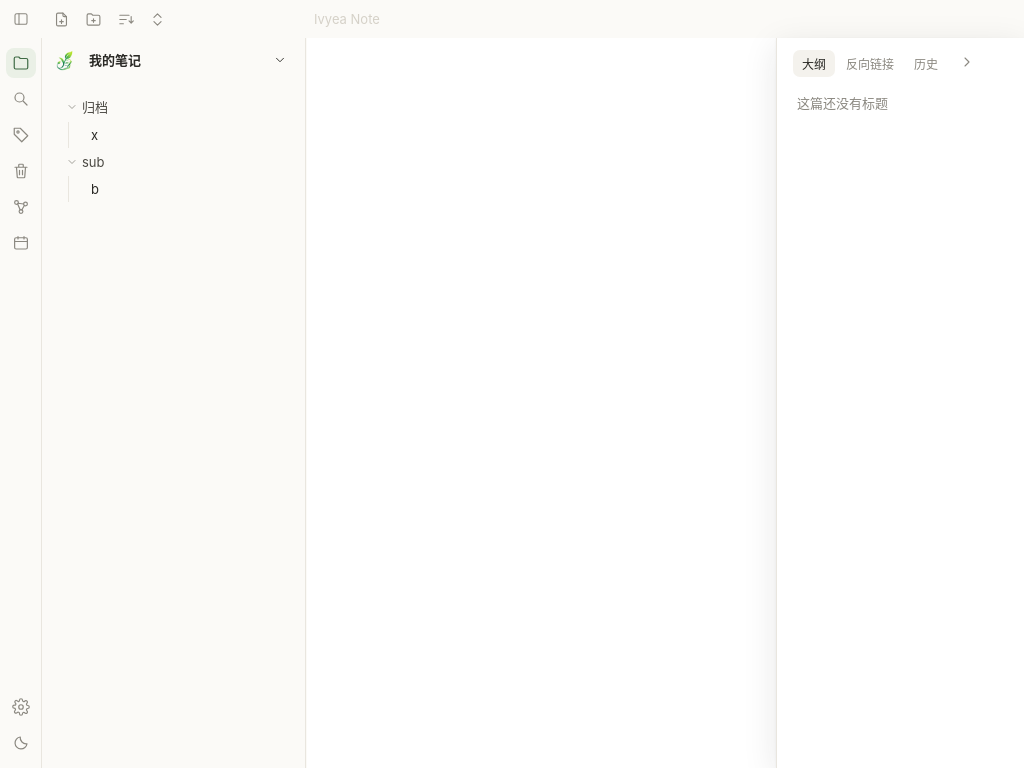
Test: 右键上下文菜单（E3） › 重命名撞上同名文件夹：当场拦下并说清原因，一个文件都不动
The width and height of the screenshot is (1024, 768).
Right-click the element with class "ft-dir" showing "sub" at (85, 162), box [66,154,104,170]
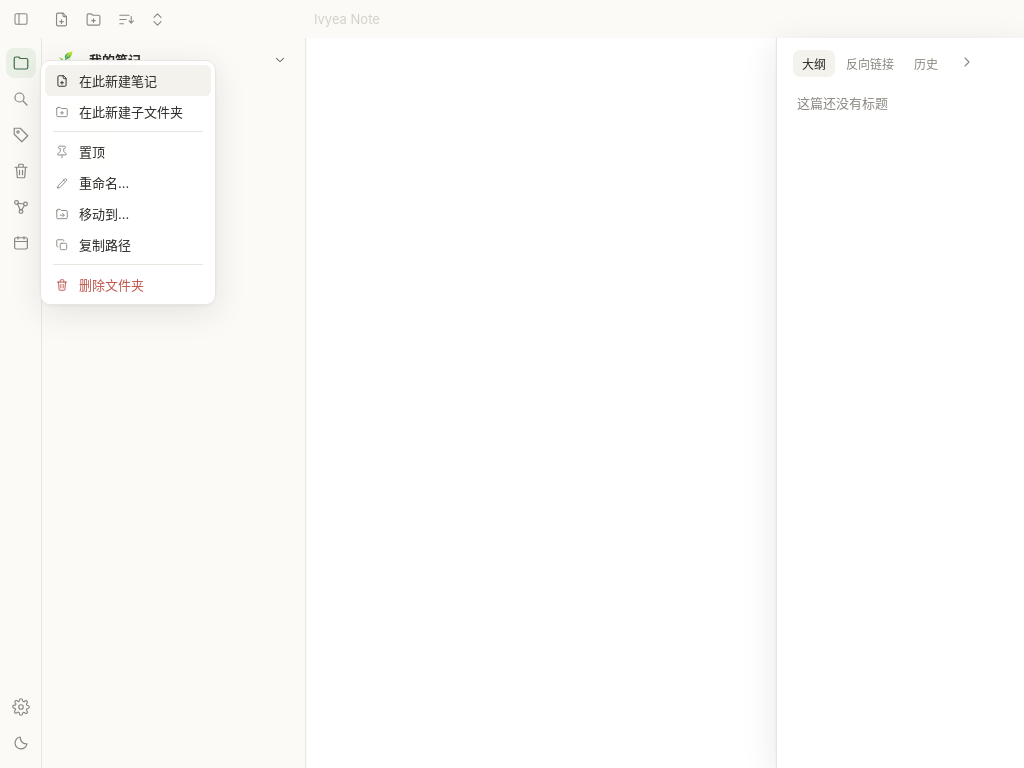
Now the menu is shown, box [40,60,216,305]
Click the menu item "重命名…" at (128, 182), box [45,167,211,198]
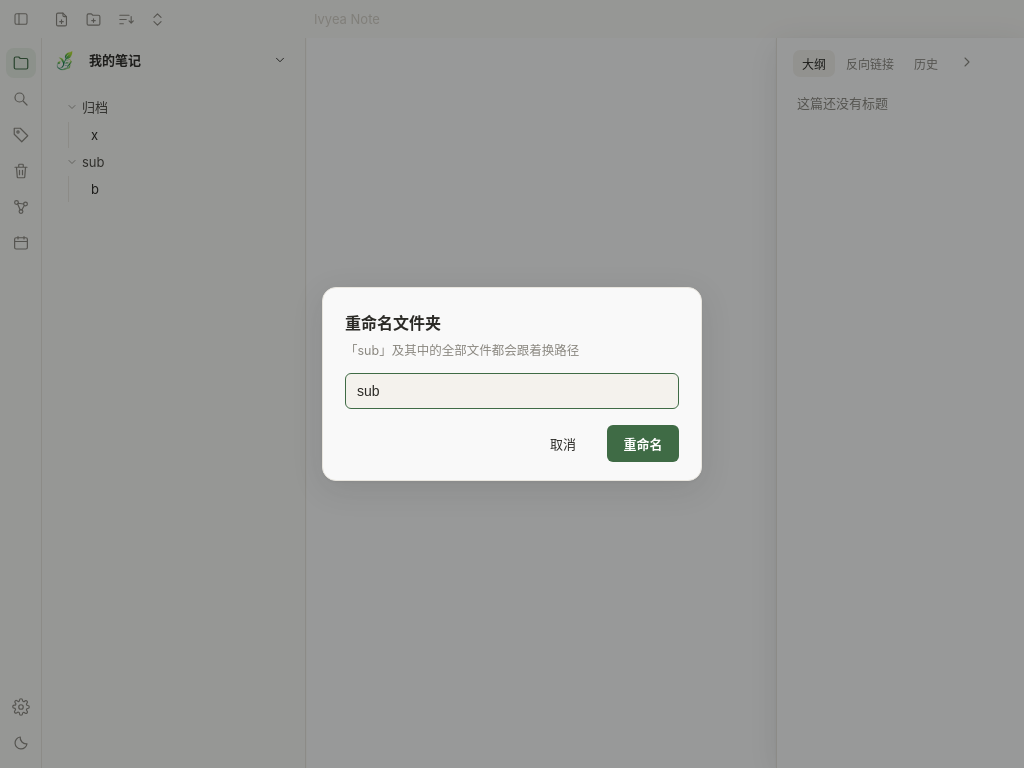
Now the field with class "dlg-input" is shown
Replace the text in the field with class "dlg-input" with "归档" at (512, 391), box [345,373,679,409]
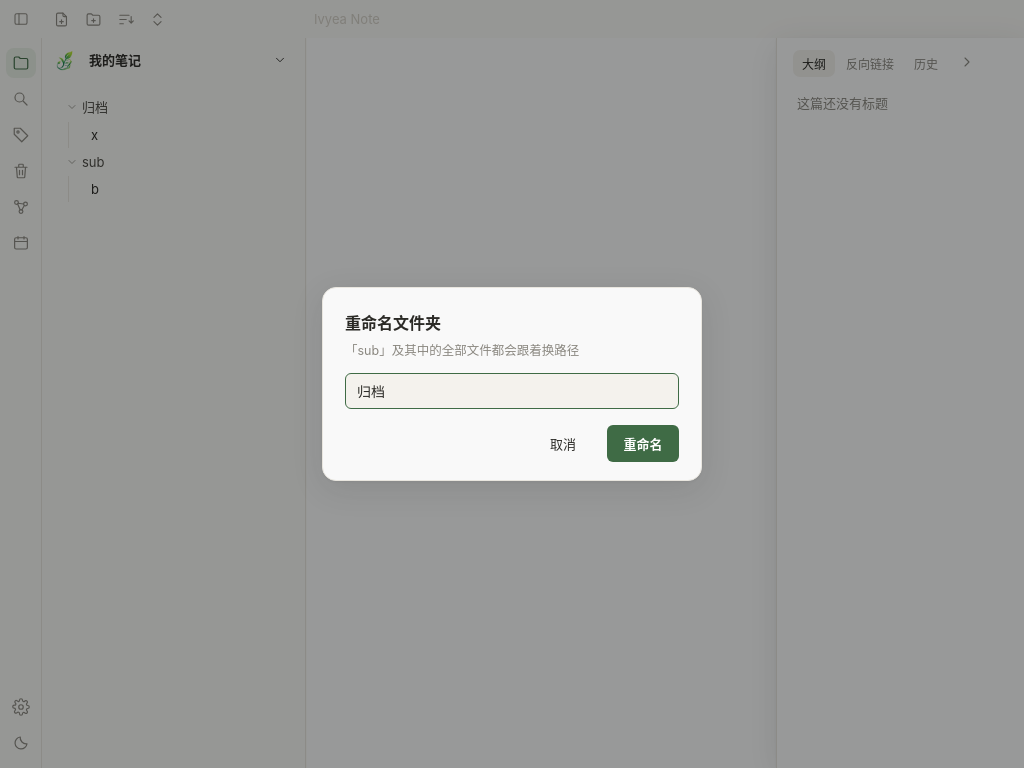
Click the button "重命名" at (643, 444), box [607,425,679,462]
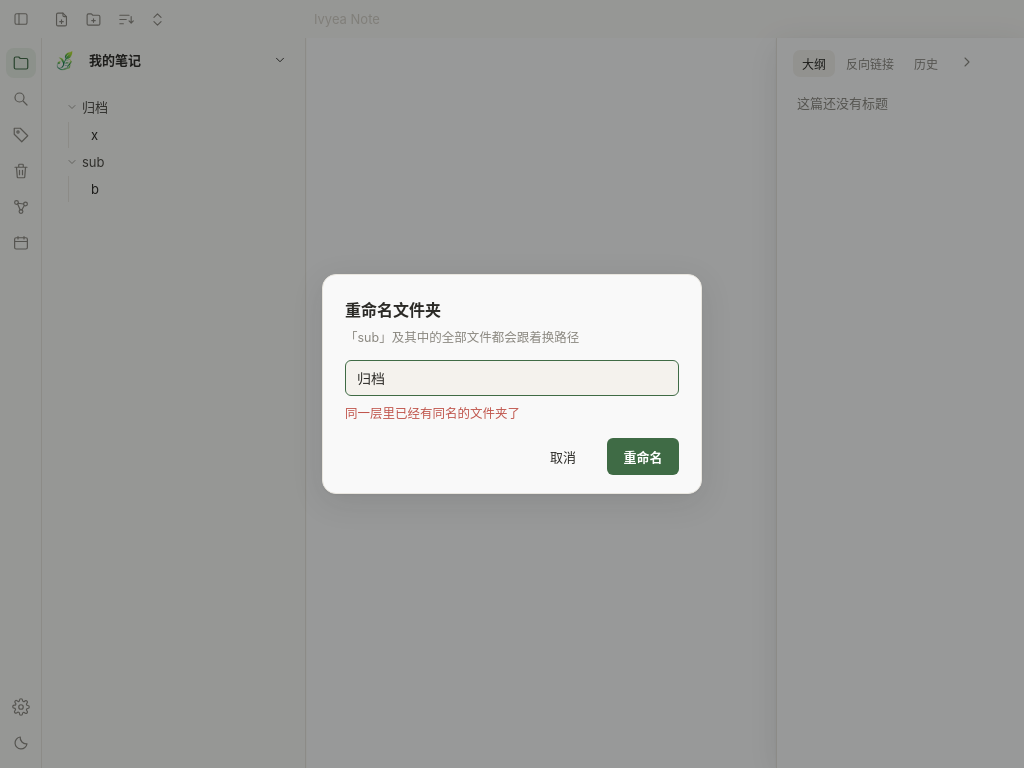
Now the text with class "dlg-error" shows "同名", box [345,406,520,421]
